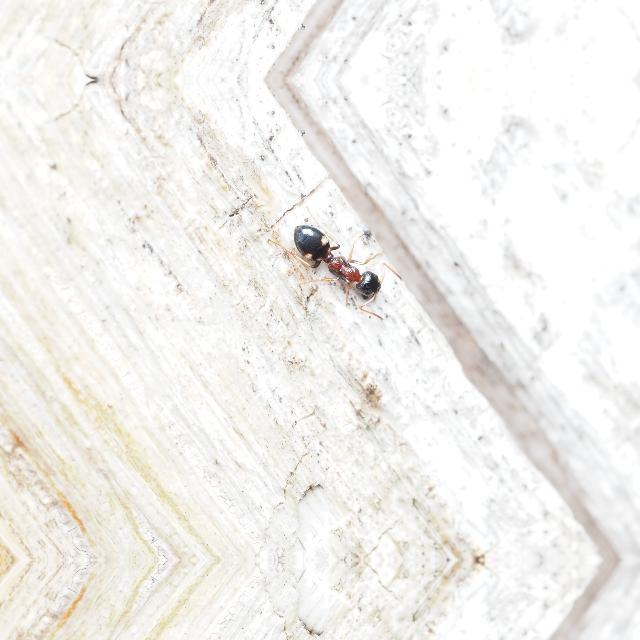Dolichoderus: (278, 216, 408, 314)
